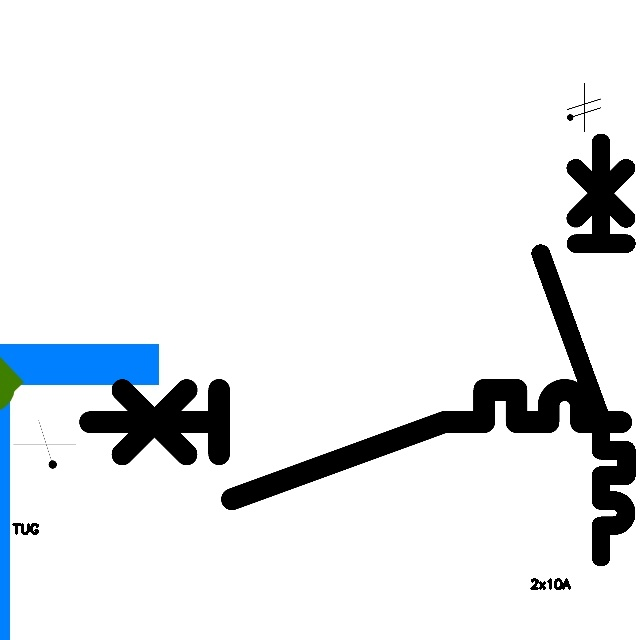interruptor_termomagnetico: (76, 376, 635, 513), (530, 132, 637, 568)
